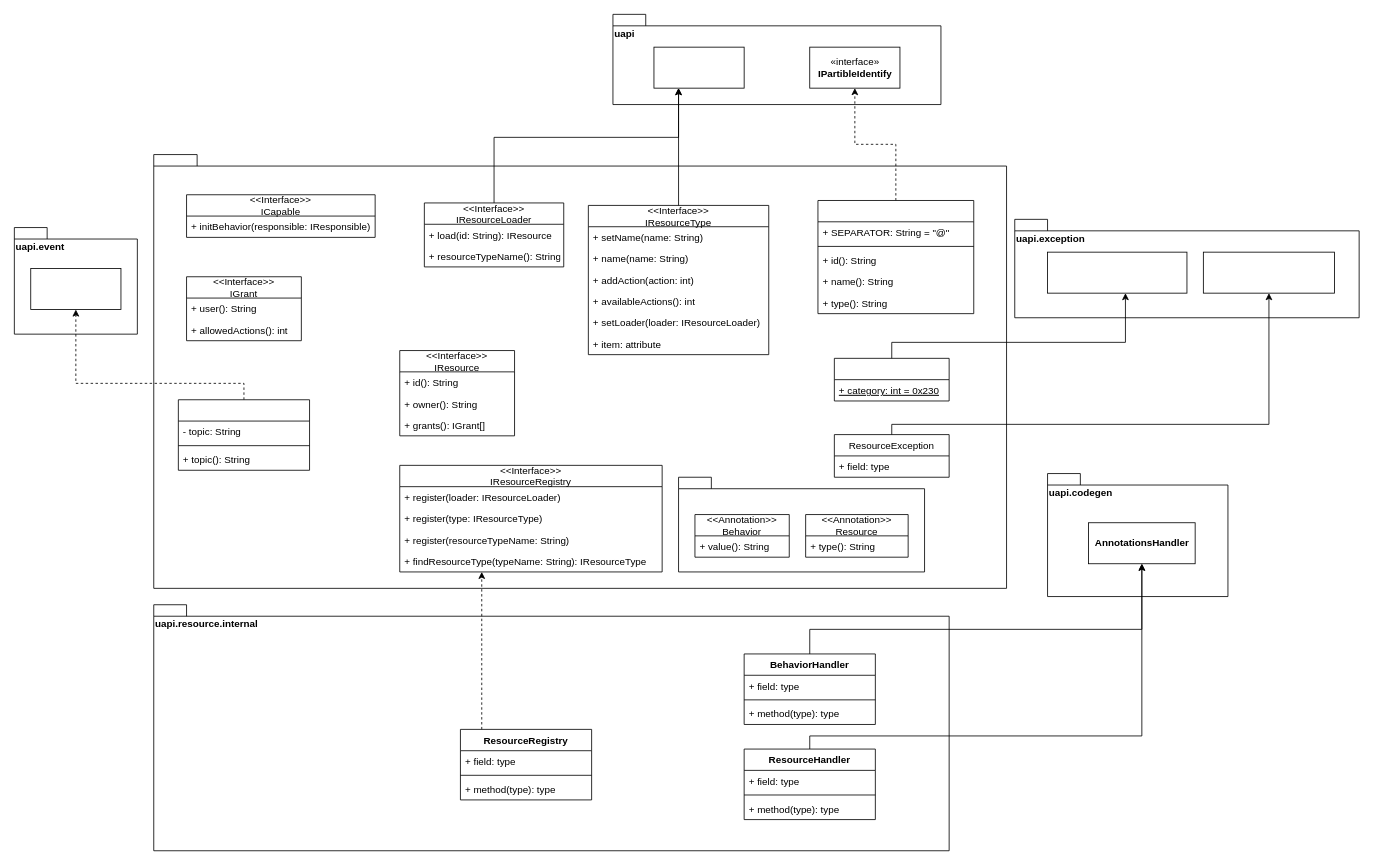
Some shapes in this 1374 by 865 pixel diagram are drawn without their labels. The shapes that lost their labels are listed below. From the top down, each one's box as (x1, y1, x2, y2) in pixels, then its label:
(653, 46, 744, 88): «interface» IIdentifiable
(817, 200, 974, 314): ResourceIdentify
(1047, 251, 1187, 293): FileBasedExceptionErrors
(1203, 251, 1335, 293): ParameterizedException
(30, 268, 121, 310): «interface» IEvent
(153, 154, 1007, 588): uapi.resource
(834, 358, 949, 401): Resource Error
(178, 399, 310, 470): ResourceRequestEvent
(678, 476, 925, 572): annotation
